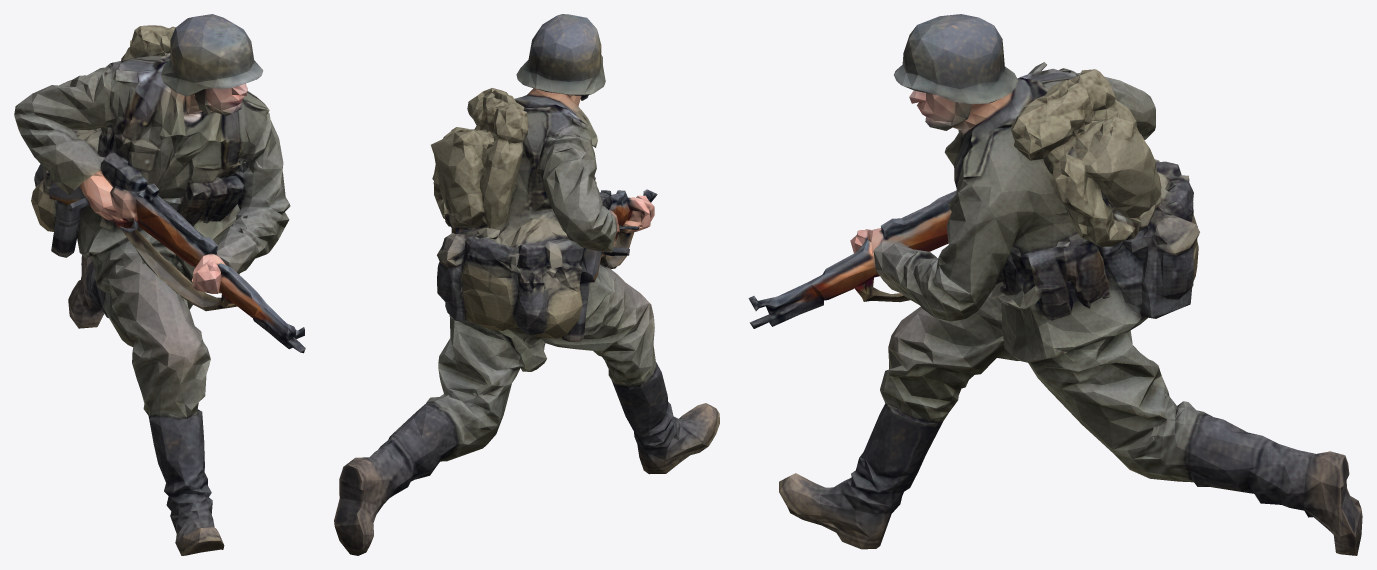
The model's file is inf_run_b.obj.
The picture shows the model from 3 angles, left to right: view 1: azimuth 30°, elevation 25°; view 2: azimuth 150°, elevation 25°; view 3: azimuth 270°, elevation 25°; orthographic projection. The views are drawn at different scales.
Parts seen in each view (by area): view 1: inf_run_b; view 2: inf_run_b; view 3: inf_run_b.
Boxes of the visible parts, box(x1,y1,x2,y2) form: inf_run_b: box(14, 14, 305, 555); inf_run_b: box(334, 14, 719, 555); inf_run_b: box(748, 14, 1362, 555).
Size of the model in its own units: 0.7458 by 1.75 by 1.75.
Materials: 1 (1 with a texture image).
